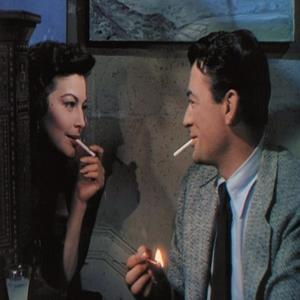cigarette: (171, 138, 195, 160), (76, 138, 97, 160)
